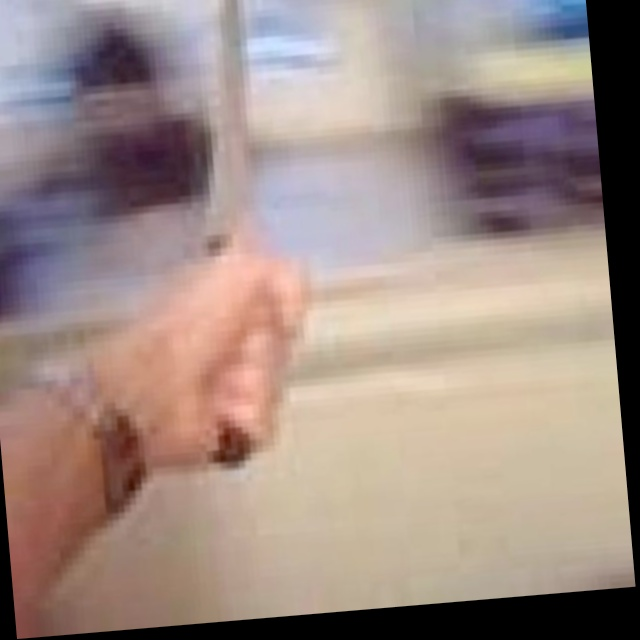Sharp-Object: (171, 0, 285, 466)
